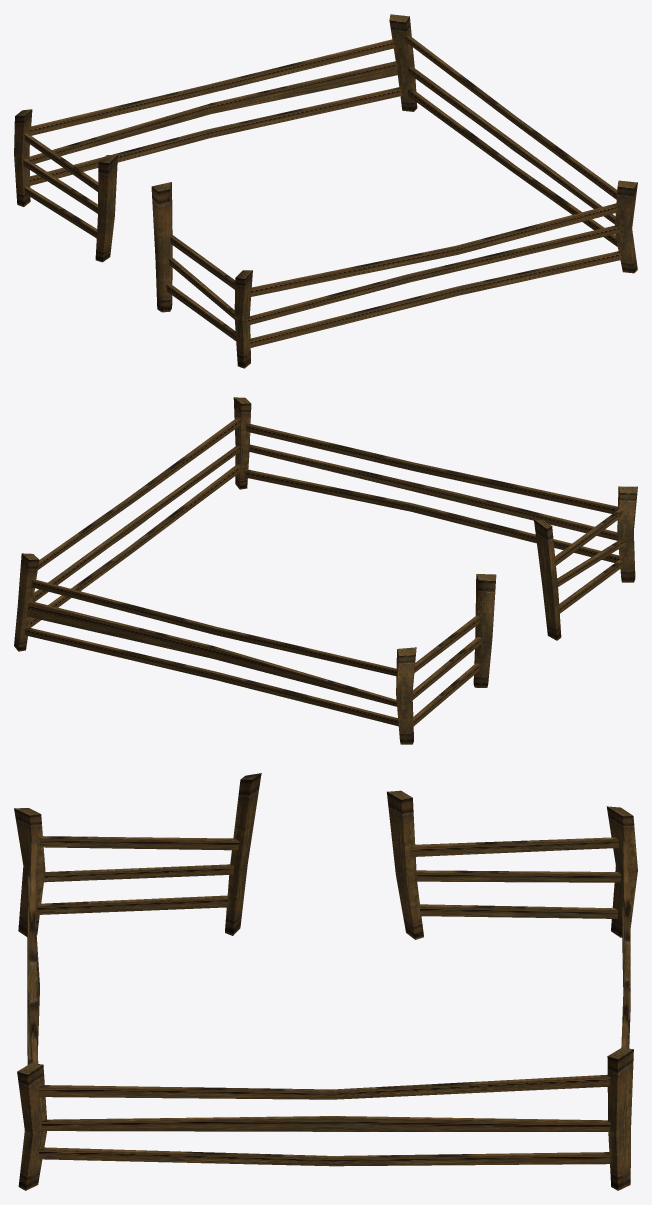
File: pir_m_prp_frm_pen_livestock.fbx
The picture shows the model from 3 angles, top to bottom: view 1: azimuth 30°, elevation 25°; view 2: azimuth 150°, elevation 25°; view 3: azimuth 270°, elevation 25°; orthographic projection. The views are drawn at different scales.
Visible parts, largest first — view 1: polySurface72, polySurface77, polySurface95, polySurface96, polySurface79, polySurface75, polySurface84, polySurface97, polySurface83, polySurface81, polySurface85, polySurface88 (+9 smaller); view 2: polySurface72, polySurface95, polySurface75, polySurface79, polySurface96, polySurface77, polySurface97, polySurface83, polySurface81, polySurface84, polySurface85, polySurface86 (+9 smaller); view 3: polySurface83, polySurface81, polySurface97, polySurface87, polySurface85, polySurface84, polySurface88, polySurface98, polySurface99, polySurface43, polySurface44, polySurface46 (+6 smaller).
Part boxes in pixels (x1,y1,x2,y2): polySurface72: (28, 61, 397, 163); polySurface77: (248, 251, 622, 348); polySurface95: (250, 203, 617, 296); polySurface96: (29, 39, 395, 135); polySurface79: (246, 225, 619, 325); polySurface75: (29, 87, 402, 185); polySurface84: (151, 182, 172, 312); polySurface97: (405, 34, 617, 199); polySurface83: (408, 66, 615, 224); polySurface81: (408, 89, 617, 246); polySurface85: (95, 154, 117, 262); polySurface88: (615, 180, 637, 273); polySurface72: (27, 601, 396, 706); polySurface95: (245, 424, 618, 513); polySurface75: (25, 627, 398, 726); polySurface79: (249, 444, 617, 540); polySurface96: (31, 580, 397, 675); polySurface77: (245, 469, 619, 562); polySurface97: (38, 416, 240, 569); polySurface83: (33, 444, 240, 601); polySurface81: (29, 463, 240, 627); polySurface84: (534, 519, 561, 640); polySurface85: (473, 574, 496, 687); polySurface86: (396, 647, 416, 744); polySurface83: (41, 1116, 610, 1131); polySurface81: (38, 1147, 610, 1166); polySurface97: (38, 1074, 610, 1099); polySurface87: (607, 1047, 633, 1190); polySurface85: (387, 790, 423, 939); polySurface84: (225, 773, 261, 935); polySurface88: (17, 1063, 46, 1190); polySurface98: (411, 837, 619, 856); polySurface99: (39, 836, 239, 850); polySurface43: (416, 870, 621, 882); polySurface44: (419, 904, 618, 918); polySurface46: (36, 895, 239, 914).
Bounding box in the file's own units: 2512 × 714 × 2512.
1 material, 1 textured.
